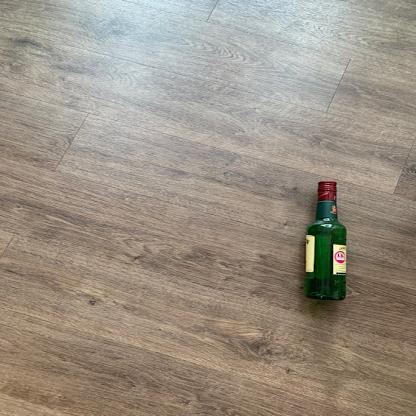trash: (300, 177, 356, 303)
